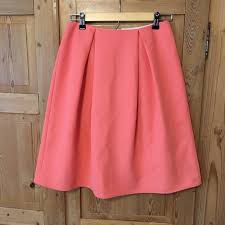C_skirt: (23, 17, 211, 207)
